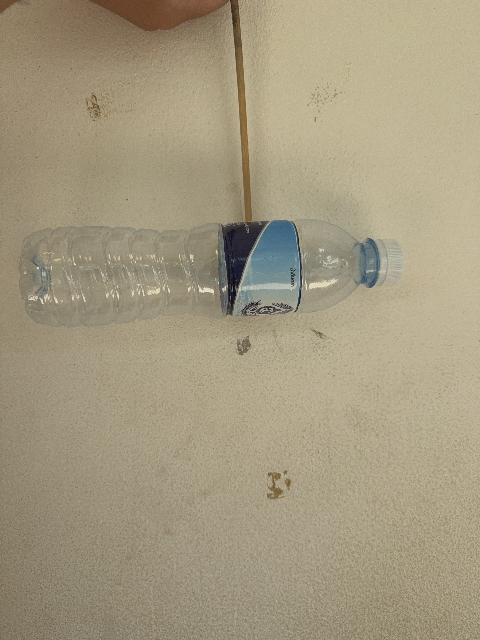bottle: (20, 220, 403, 326)
